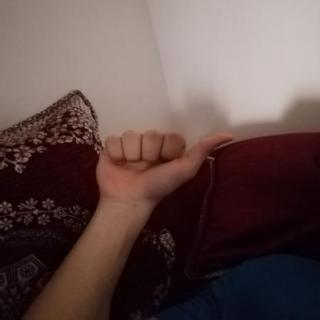DAD: (83, 123, 246, 210)
